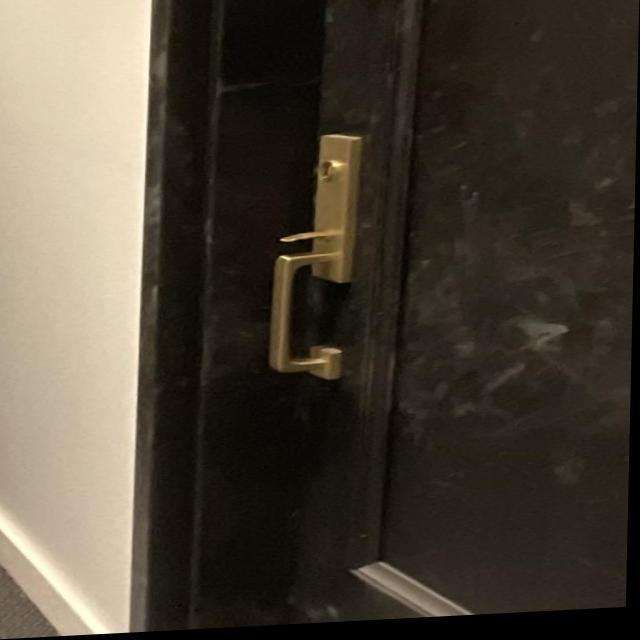door_handle: (239, 246, 378, 399)
